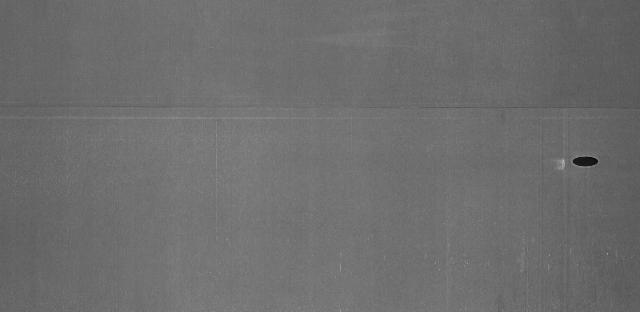punching_hole: (570, 148, 606, 172)
welding_line: (1, 99, 635, 115)
